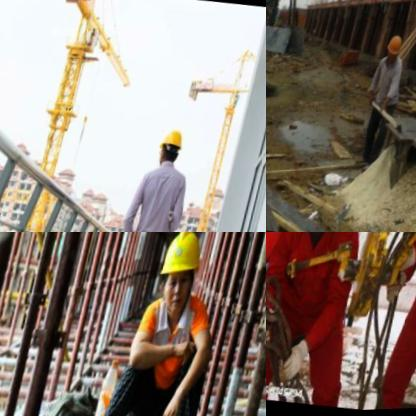helmet: (152, 232, 217, 321), (158, 127, 188, 171), (385, 34, 409, 68)
